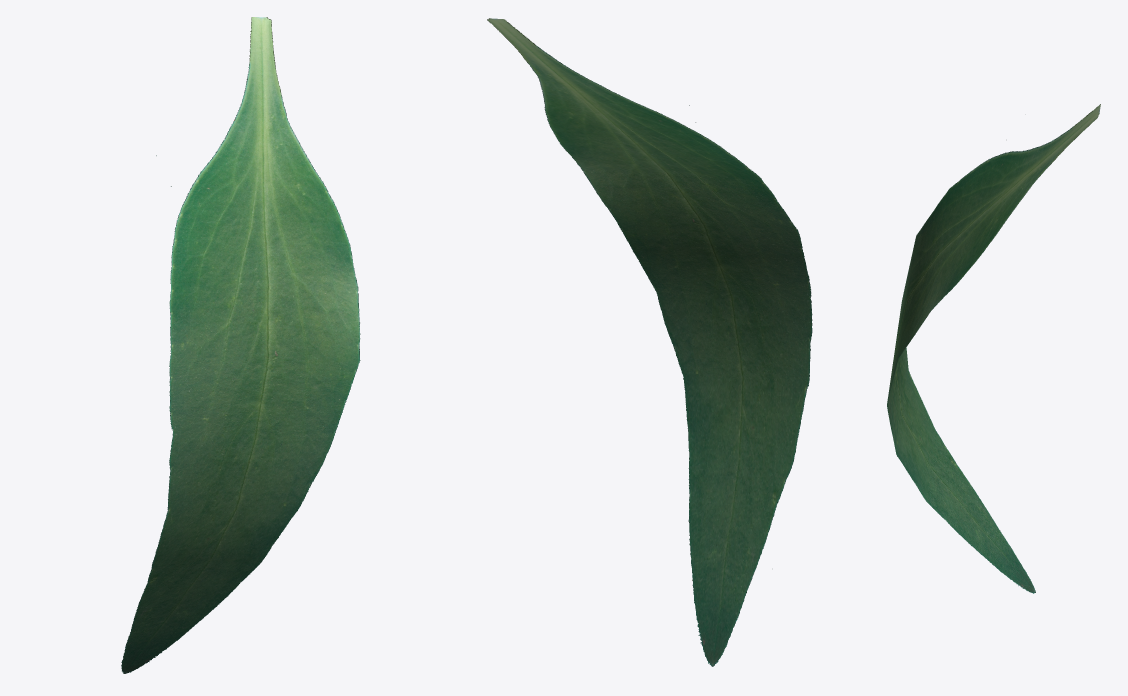
The picture shows the model from 3 angles, left to right: view 1: azimuth 30°, elevation 25°; view 2: azimuth 150°, elevation 25°; view 3: azimuth 270°, elevation 25°; orthographic projection. The views are drawn at different scales.
Parts seen in each view (by area): view 1: plant.008; view 2: plant.008; view 3: plant.008.
Boxes of the visible parts, x1=… form: plant.008: x1=121, y1=17, x2=360, y2=673; plant.008: x1=487, y1=18, x2=812, y2=666; plant.008: x1=887, y1=104, x2=1100, y2=593.
Size of the model in its own units: 0.8077 by 1.43 by 0.4771.
1 material, 1 textured.
